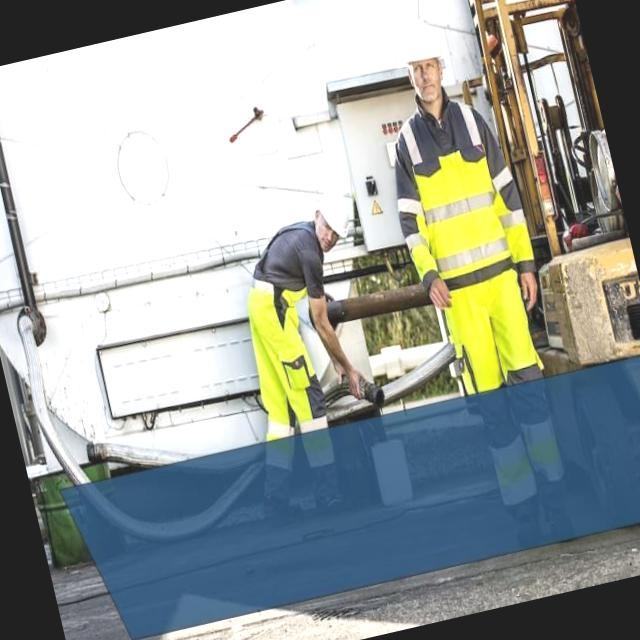helmet: (388, 10, 450, 80), (306, 178, 361, 252)
vest: (389, 93, 535, 314)
